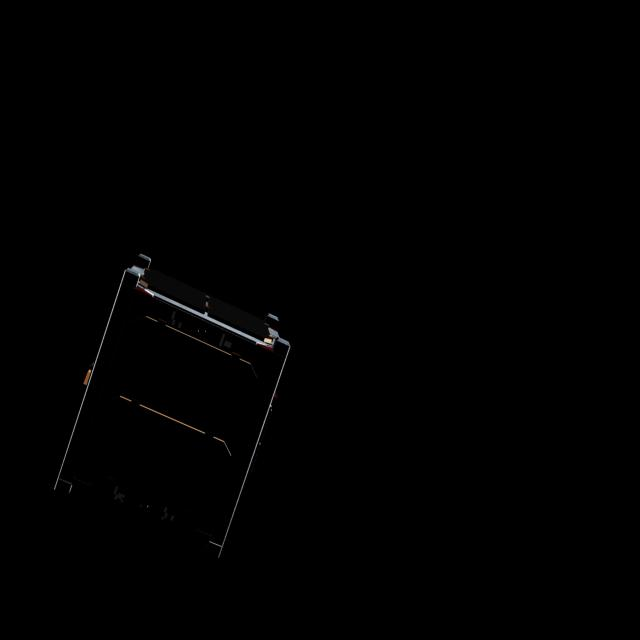medium_debris: (34, 247, 295, 566)
